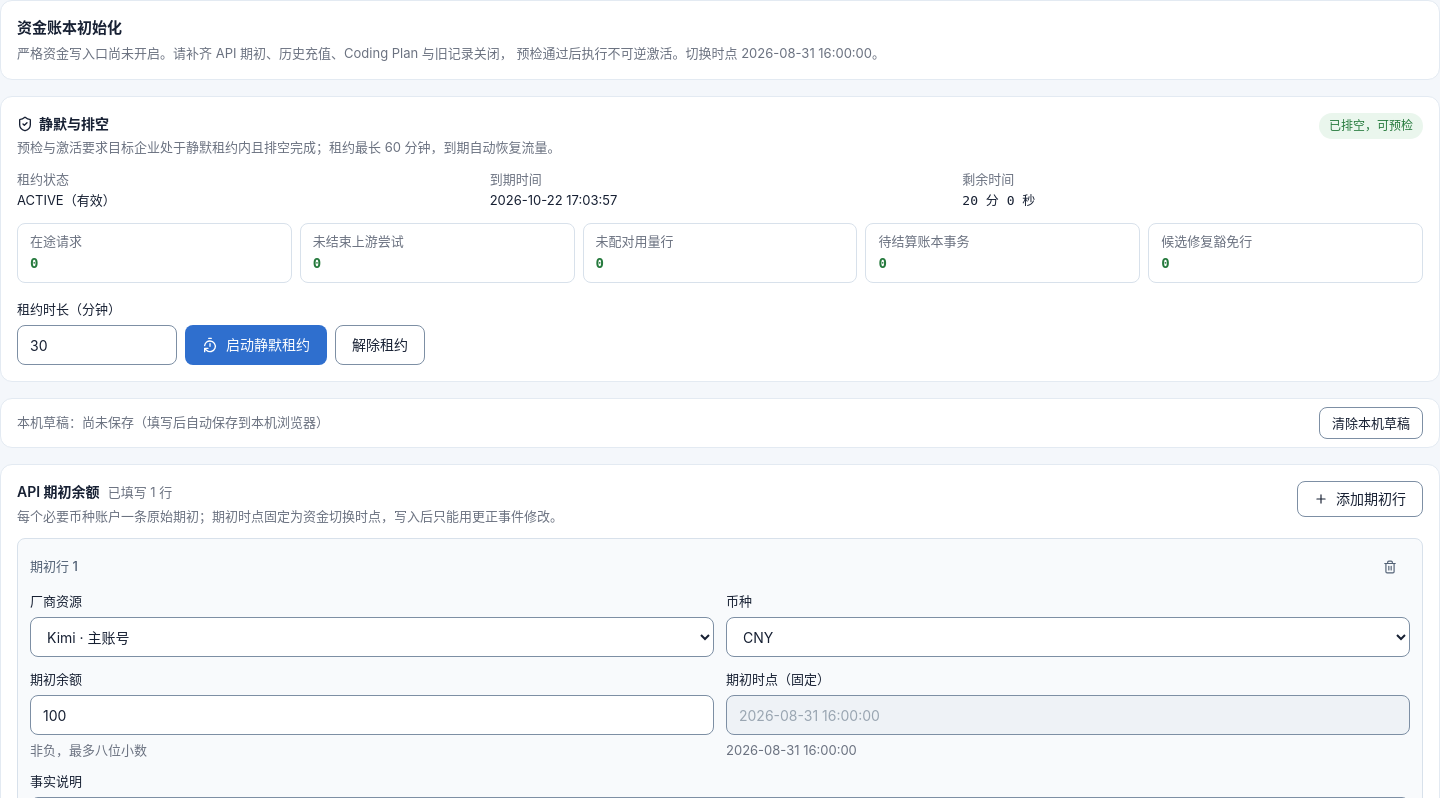
Test: 清除本机草稿二次确认（复核修复 R3） › 恢复后第一次单击只进入确认态，不删除本机草稿；取消不删除
Step 1. Click the button with test id "draft-autosave-clear" → (1371, 423), box top-left (1319, 407), bottom-right (1423, 439)
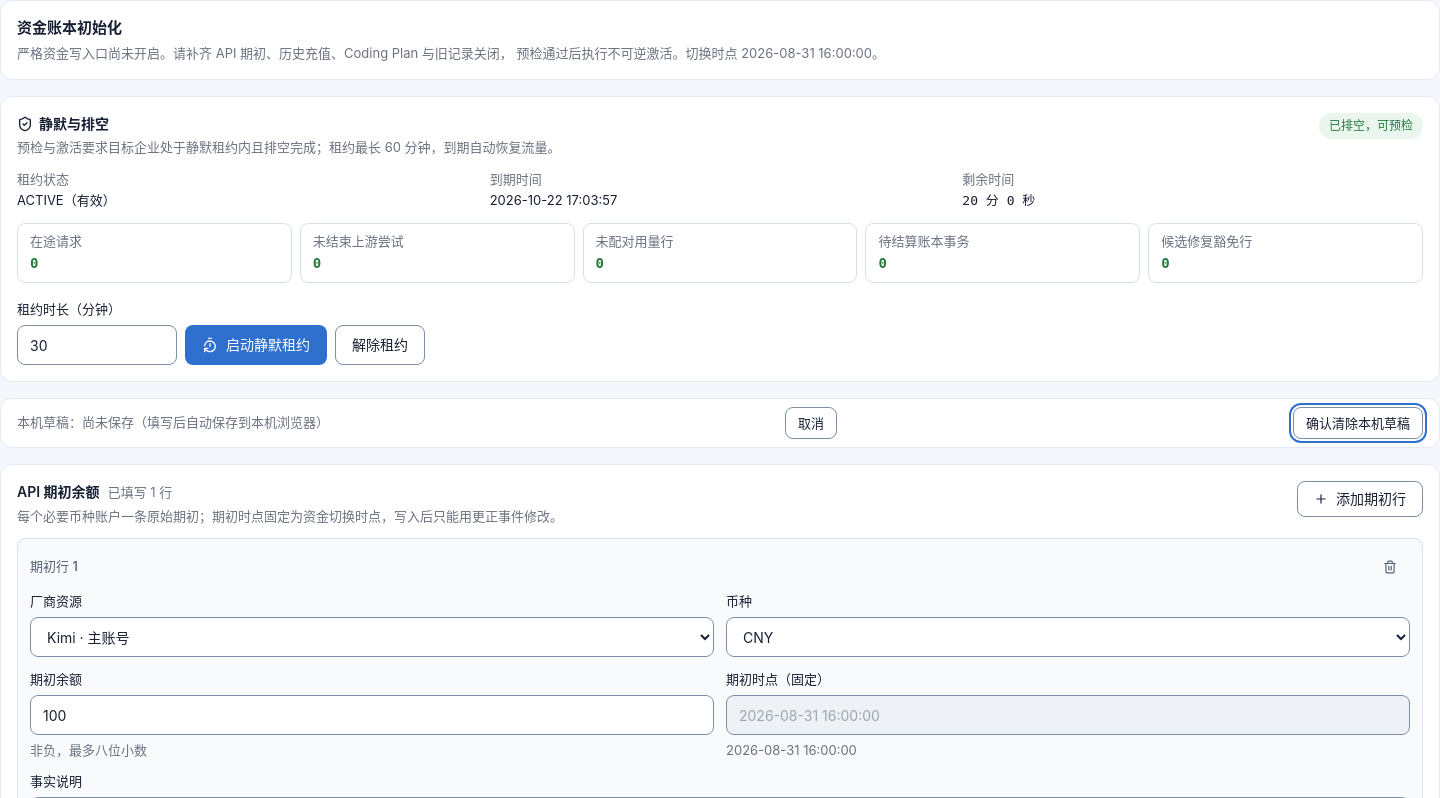
expect the button with test id "draft-autosave-clear" reads "确认清除本机草稿": met, box top-left (1293, 407), bottom-right (1423, 439)
Step 2. Click the button with test id "draft-autosave-clear-cancel" → (811, 423), box top-left (785, 407), bottom-right (837, 439)
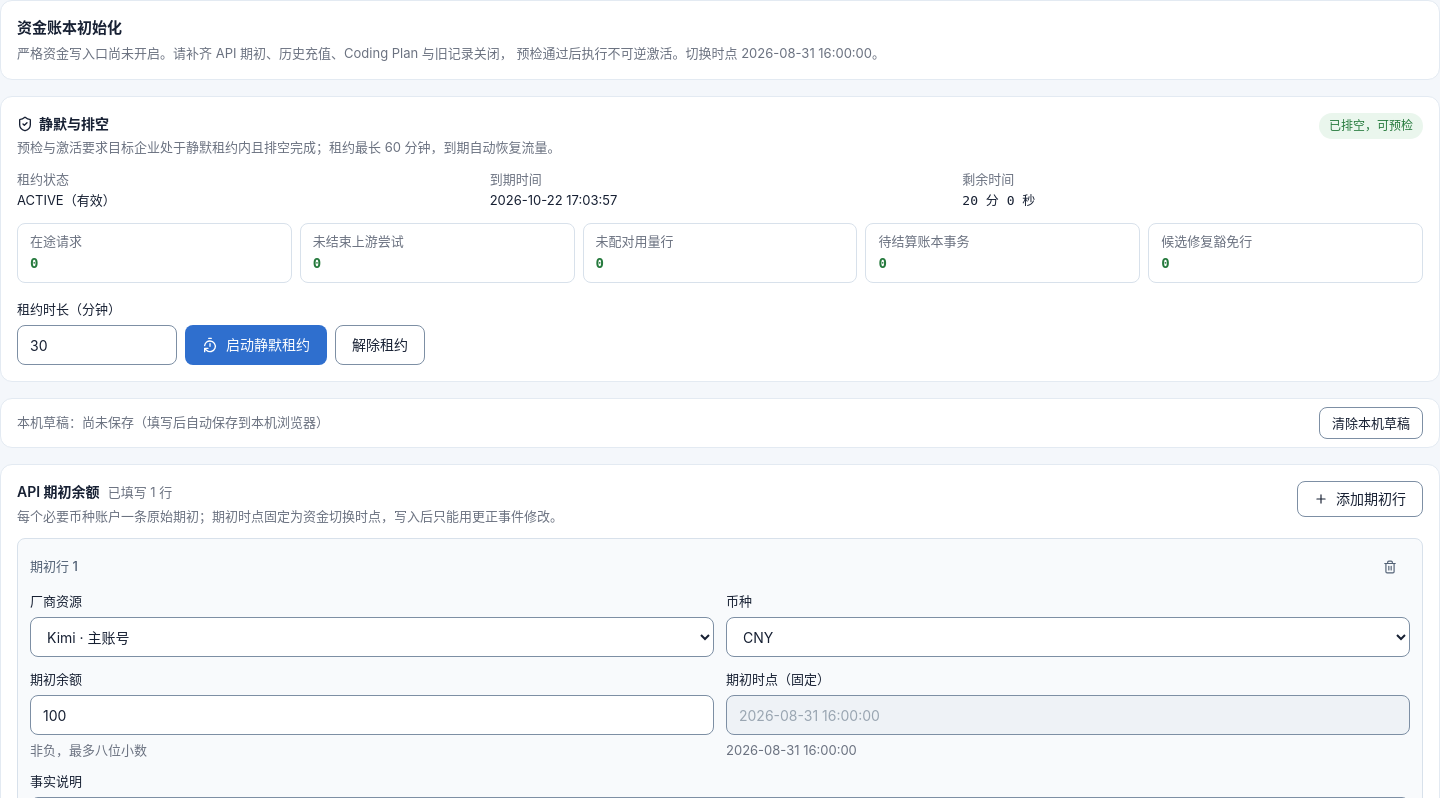
expect the button with test id "draft-autosave-clear" reads "清除本机草稿": met, box top-left (1319, 407), bottom-right (1423, 439)
expect the button with test id "draft-autosave-clear-cancel" is gone: met
